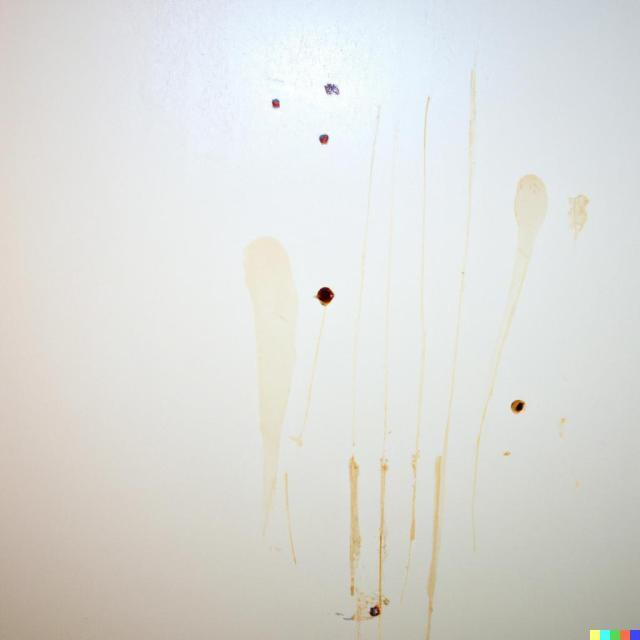flood: (314, 282, 336, 308)
